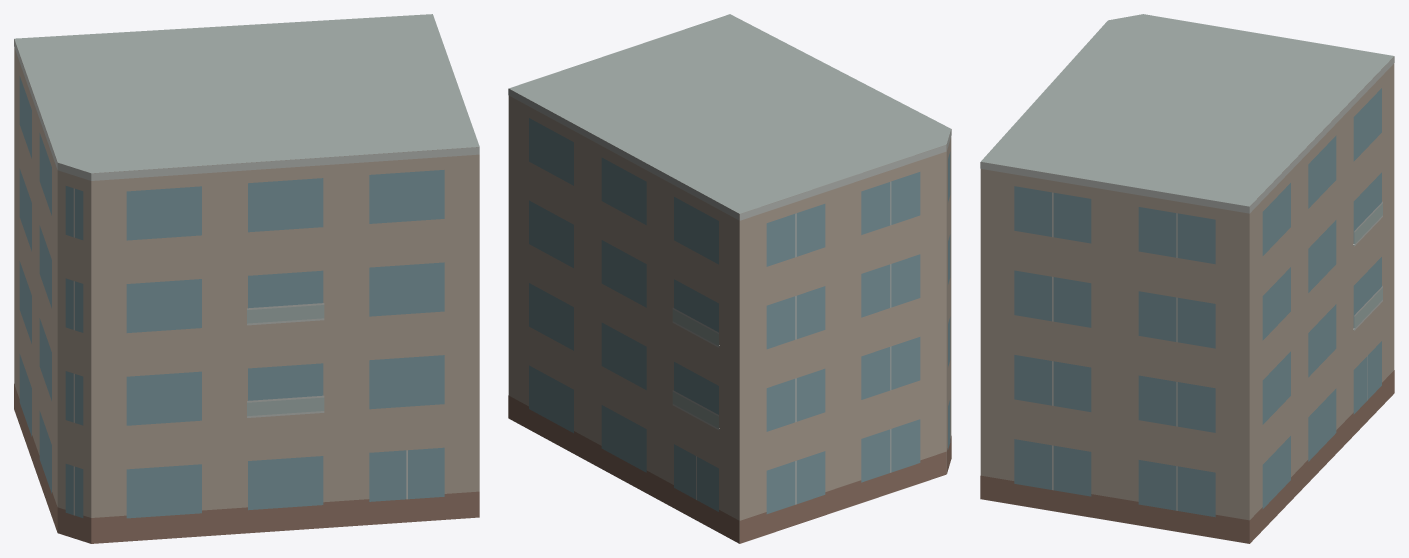
The model's file is survey-upis-32880898.glb.
3 renders of one model, left to right at view 1: azimuth 30°, elevation 25°; view 2: azimuth 150°, elevation 25°; view 3: azimuth 270°, elevation 25°, orthographic. The views are drawn at different scales.
Visible parts, largest first — view 1: survey-upis-32880898.tmp; view 2: survey-upis-32880898.tmp; view 3: survey-upis-32880898.tmp.
Boxes of the visible parts, x1,y1,x2,y2 form: survey-upis-32880898.tmp: (14,14,479,543); survey-upis-32880898.tmp: (508,14,951,543); survey-upis-32880898.tmp: (980,14,1394,543).
Bounding box in the file's own units: 14.34 × 11.7 × 13.02.
